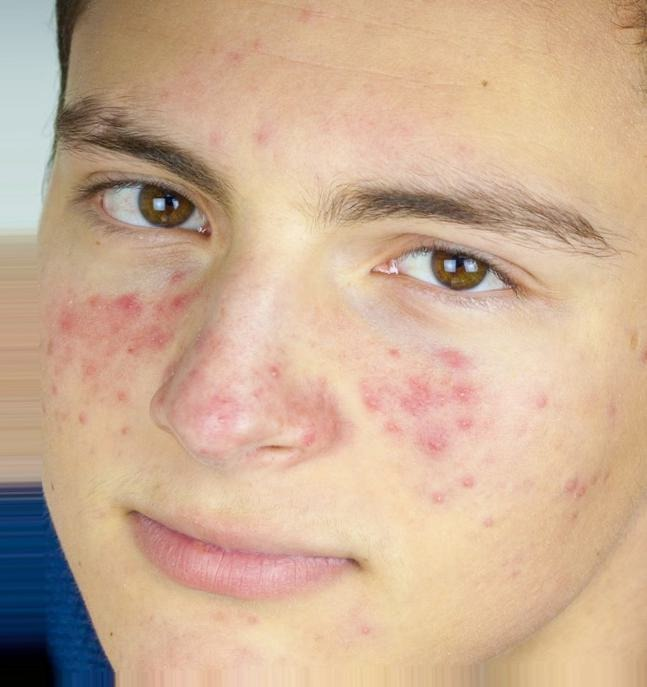Acne: (55, 277, 509, 497)
